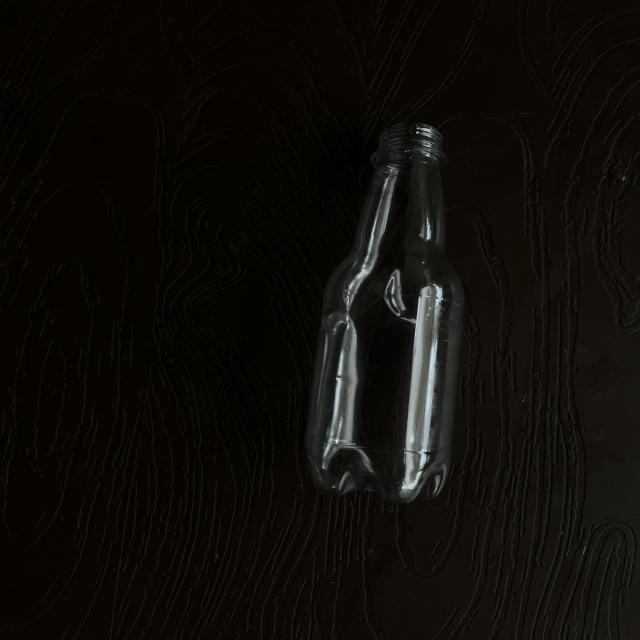PET_ClearBottle: (296, 122, 472, 501)
